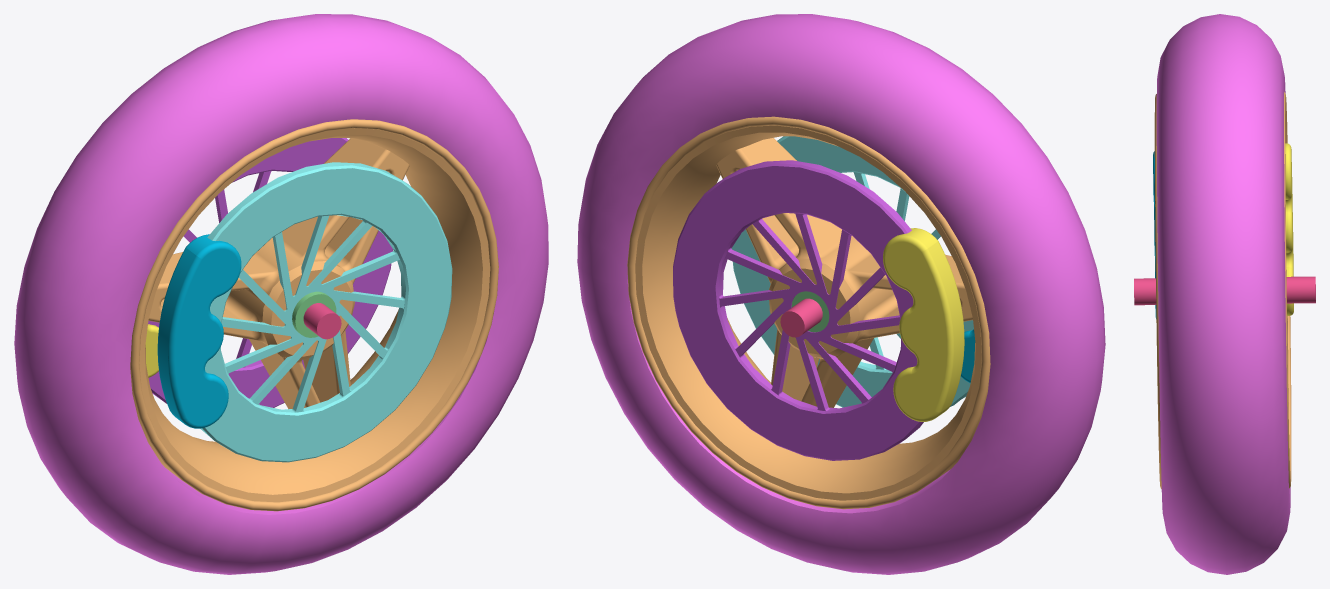
File: front_wheel_brake.glb
3 renders of one model, left to right at view 1: azimuth 30°, elevation 25°; view 2: azimuth 150°, elevation 25°; view 3: azimuth 270°, elevation 25°, orthographic. The views are drawn at different scales.
Parts seen in each view (by area): view 1: User Library-racing bike_racing bike.sldasm-Part-43-1, User Library-racing bike_racing bike.sldasm-Part-38-1, User Library-racing bike_racing bike.sldasm-Part-40-1, User Library-racing bike_racing bike.sldasm-Part-37-1, User Library-racing bike_racing bike.sldasm-Part-39-1, User Library-racing bike_racing bike.sldasm-Part-32-1, User Library-racing bike_racing bike.sldasm-Part-33-1; view 2: User Library-racing bike_racing bike.sldasm-Part-43-1, User Library-racing bike_racing bike.sldasm-Part-38-1, User Library-racing bike_racing bike.sldasm-Part-39-1, User Library-racing bike_racing bike.sldasm-Part-35-1, User Library-racing bike_racing bike.sldasm-Part-40-1, User Library-racing bike_racing bike.sldasm-Part-32-1; view 3: User Library-racing bike_racing bike.sldasm-Part-43-1, User Library-racing bike_racing bike.sldasm-Part-38-1, User Library-racing bike_racing bike.sldasm-Part-32-1, User Library-racing bike_racing bike.sldasm-Part-35-1, User Library-racing bike_racing bike.sldasm-Part-37-1.
Boxes of the visible parts, x1,y1,x2,y2 form: User Library-racing bike_racing bike.sldasm-Part-43-1: (14,14,548,574); User Library-racing bike_racing bike.sldasm-Part-38-1: (130,119,498,511); User Library-racing bike_racing bike.sldasm-Part-40-1: (200,162,452,462); User Library-racing bike_racing bike.sldasm-Part-37-1: (157,234,241,428); User Library-racing bike_racing bike.sldasm-Part-39-1: (148,138,392,407); User Library-racing bike_racing bike.sldasm-Part-32-1: (303,303,341,339); User Library-racing bike_racing bike.sldasm-Part-33-1: (292,291,336,337); User Library-racing bike_racing bike.sldasm-Part-43-1: (577,14,1105,574); User Library-racing bike_racing bike.sldasm-Part-38-1: (627,116,990,509); User Library-racing bike_racing bike.sldasm-Part-39-1: (673,160,923,460); User Library-racing bike_racing bike.sldasm-Part-35-1: (883,228,964,421); User Library-racing bike_racing bike.sldasm-Part-40-1: (731,136,973,407); User Library-racing bike_racing bike.sldasm-Part-32-1: (780,298,822,337); User Library-racing bike_racing bike.sldasm-Part-43-1: (1156,14,1290,574); User Library-racing bike_racing bike.sldasm-Part-38-1: (1154,92,1291,488); User Library-racing bike_racing bike.sldasm-Part-32-1: (1134,276,1315,305); User Library-racing bike_racing bike.sldasm-Part-35-1: (1285,143,1293,315); User Library-racing bike_racing bike.sldasm-Part-37-1: (1153,151,1156,318).
Size of the model in its own units: 0.038 by 0.038 by 0.0123.
